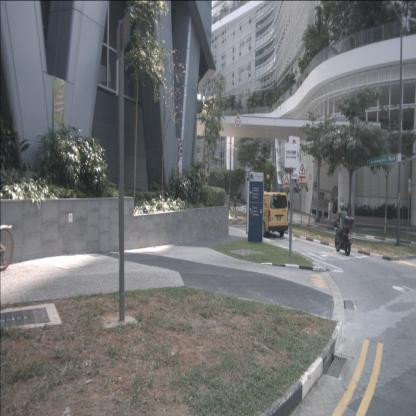human-pedestrian-adult: (233, 193, 237, 211)
vehicle-bicycle: (0, 224, 14, 272)
vehicle-car: (250, 192, 288, 237)
vehicle-motorcycle: (333, 202, 355, 256)
